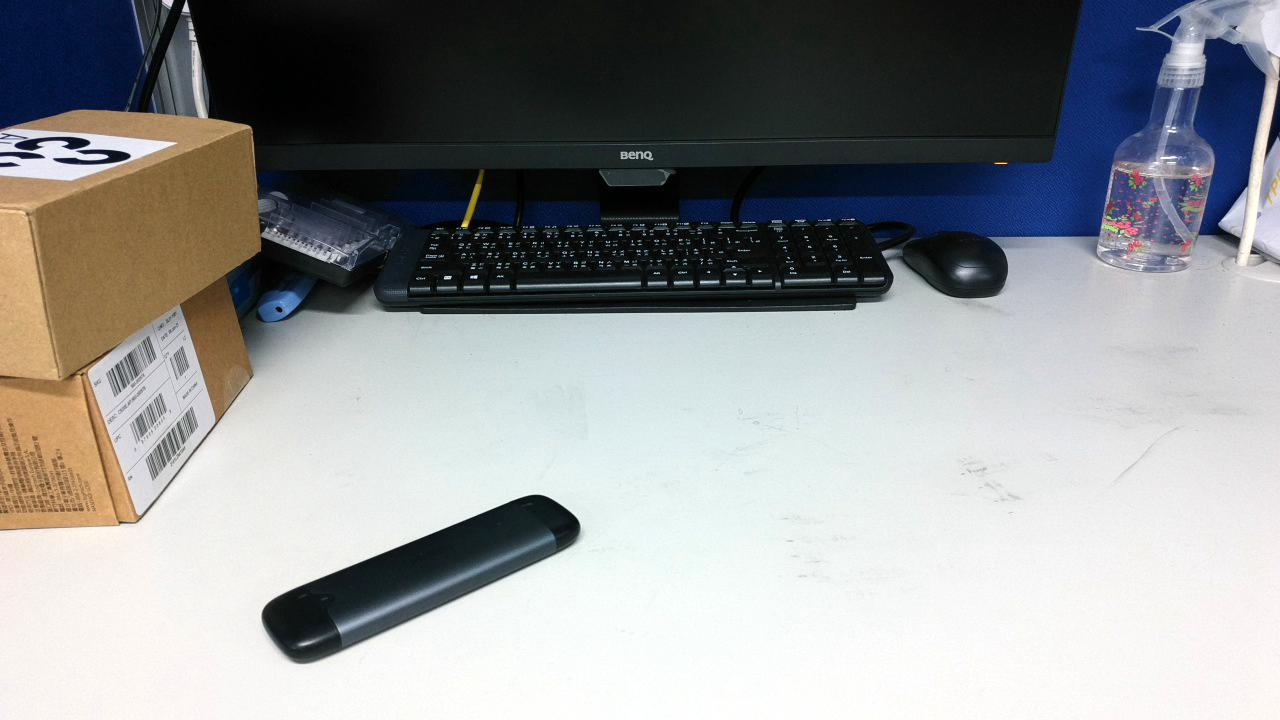long: (489, 542, 833, 606)
